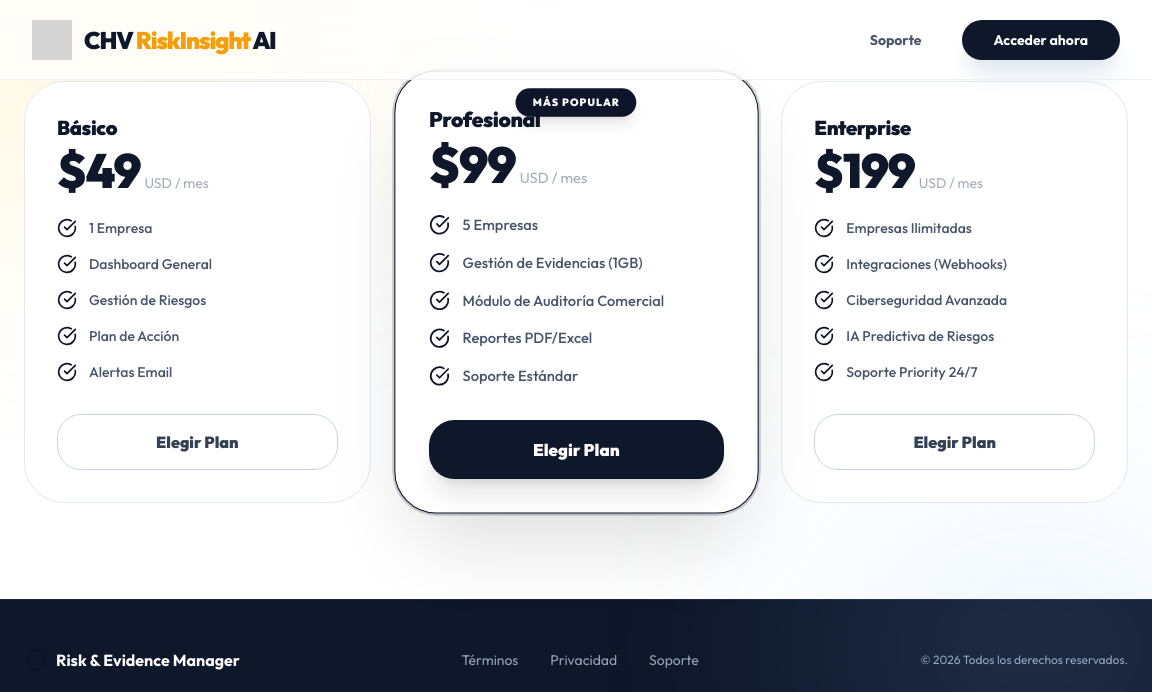
Test: AuthPage › Signup mode › should show selected plan name when plan is chosen
(page scrolled)
Click the button "Elegir Plan" below "Alertas Email": [197, 442] box [57, 414, 338, 470]
(page scrolled)
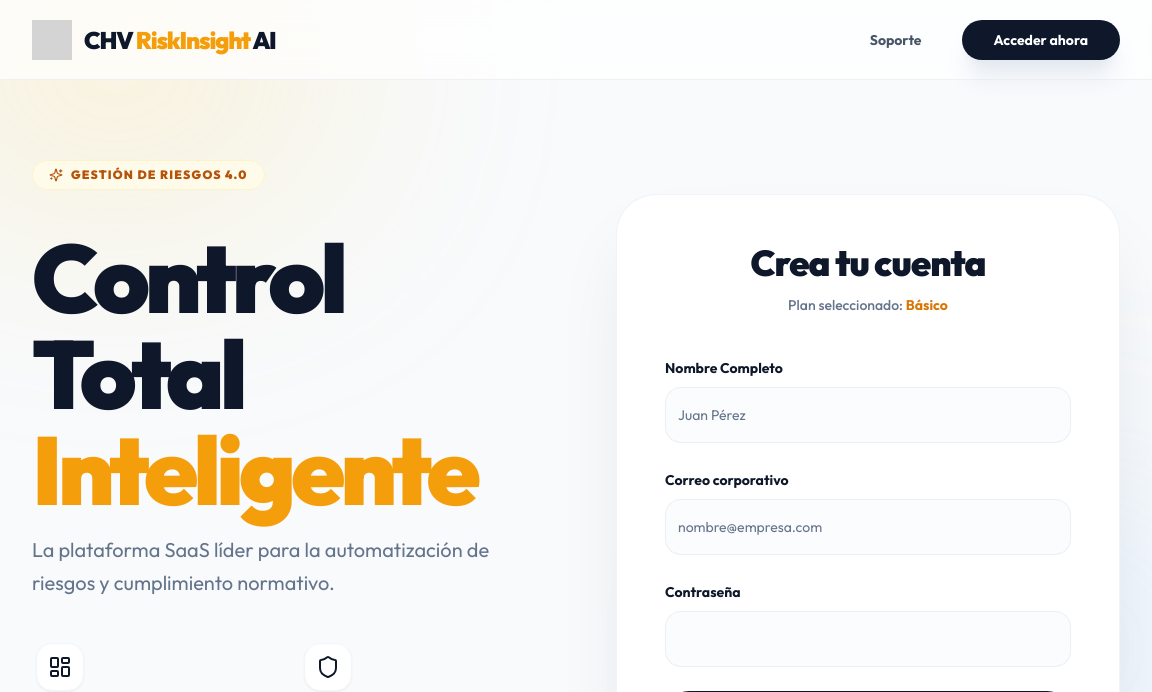
Now the heading "Crea tu cuenta" is shown, box [750, 240, 986, 285]
Now the text "Plan seleccionado: Básico" is shown, box [788, 296, 948, 314]
